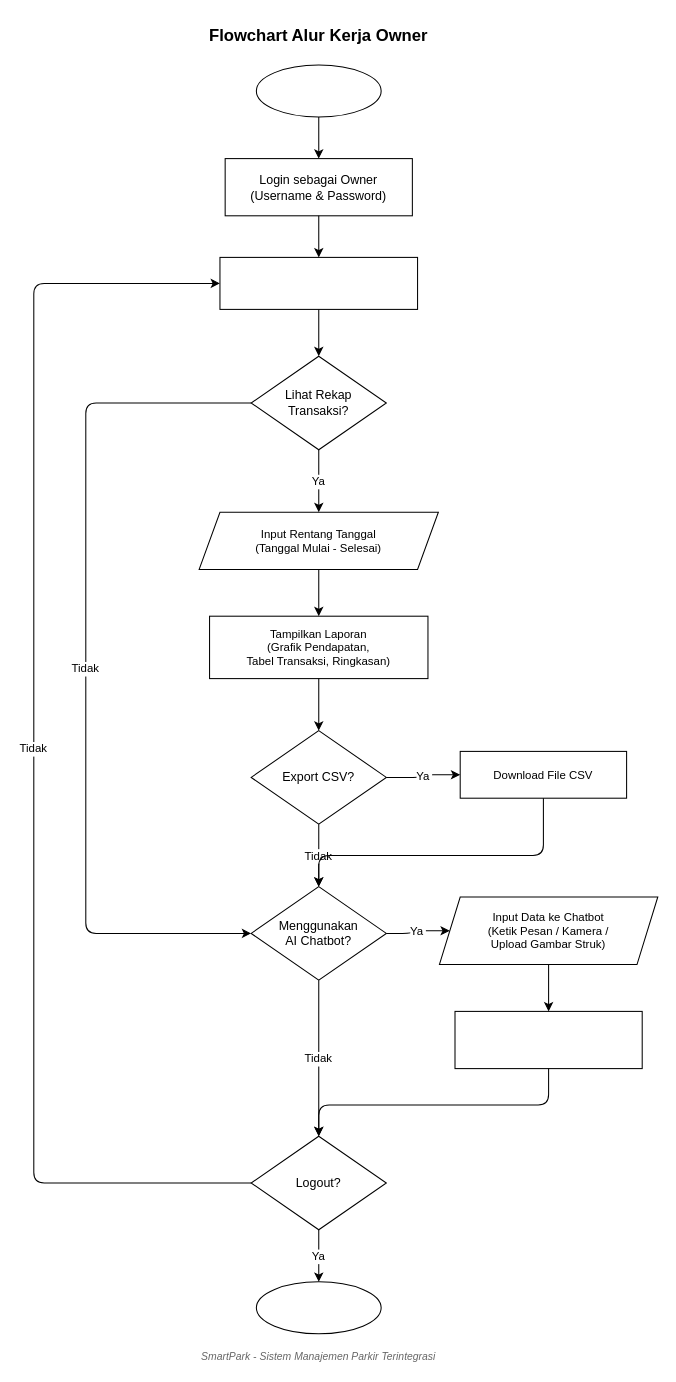
This 676x1382 diagram has some shape labels left out. Here are the shapes that lost their labels. From the top down, the centre of each, then its label:
the point at 318,90: Mulai
the point at 318,282: Masuk Dashboard Owner
the point at 548,1039: AI Proses & Tampilkan Respon + Parking Card + Barcode
the point at 318,1307: Selesai
